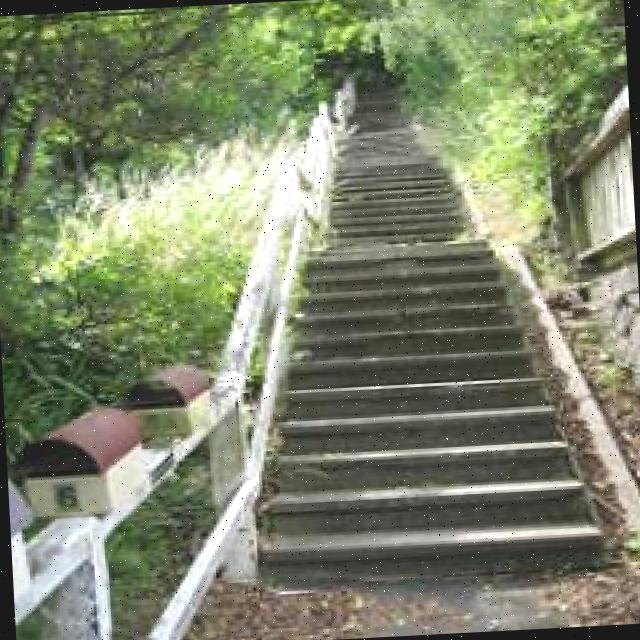stairs: (227, 64, 608, 594)
